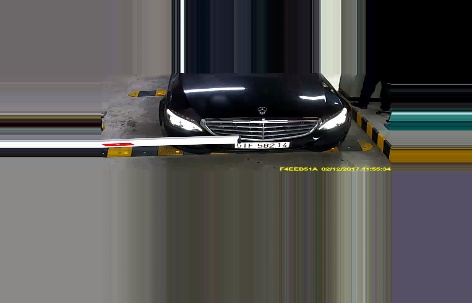plate: (233, 137, 285, 152)
